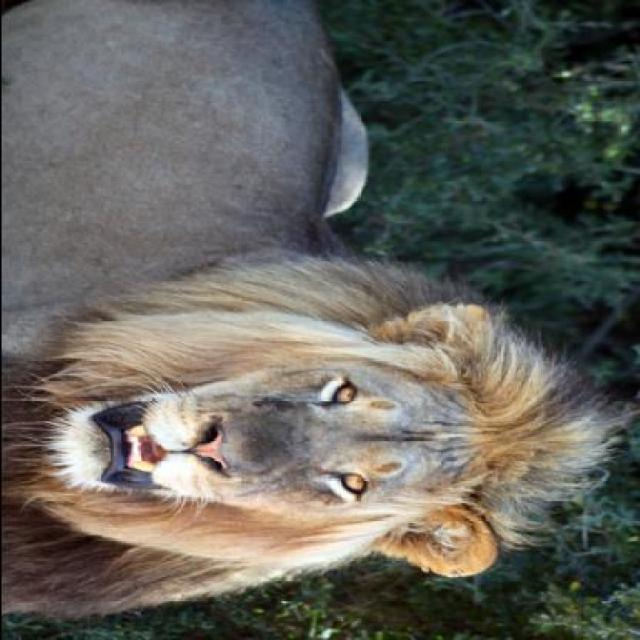Lion: (2, 1, 629, 622)
